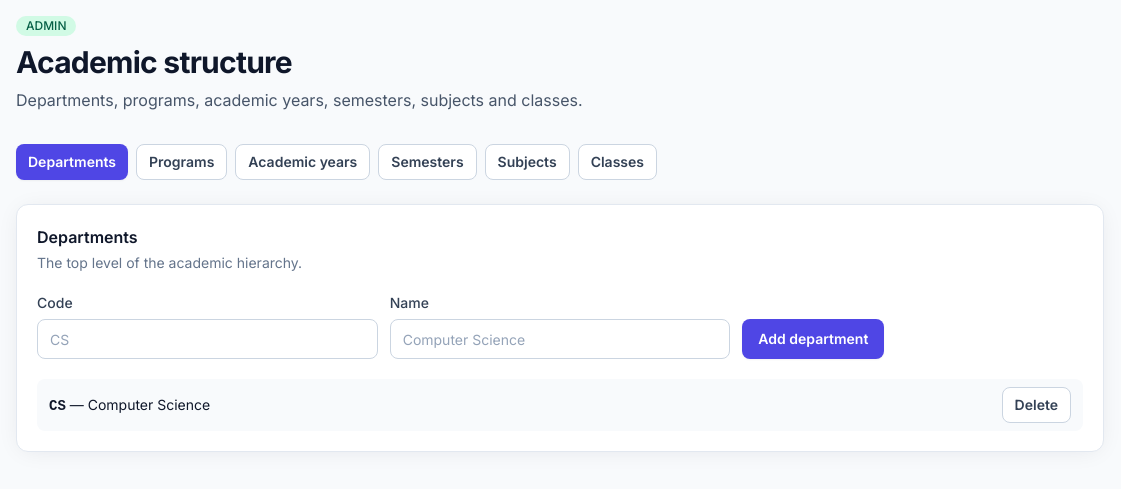
Test: AdminAcademic › switches between academic sections
Expected: the heading "Departments" is shown, [37, 227, 138, 247]
Click the button "Subjects". click: (527, 162)
box: [485, 144, 570, 180]
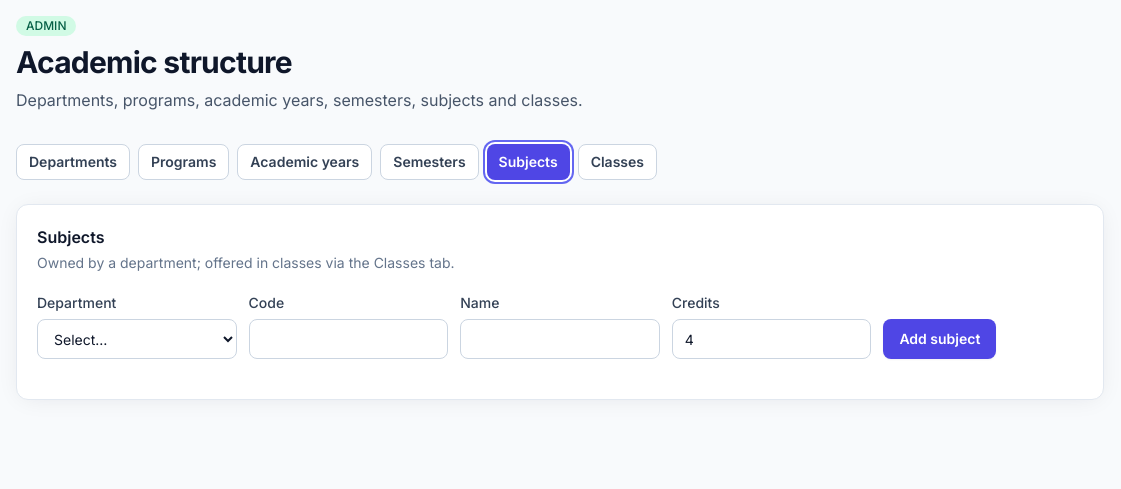
Expected: the heading "Subjects" is shown, [37, 227, 104, 247]
Click the button "Classes". click: (617, 162)
box: [578, 144, 657, 180]
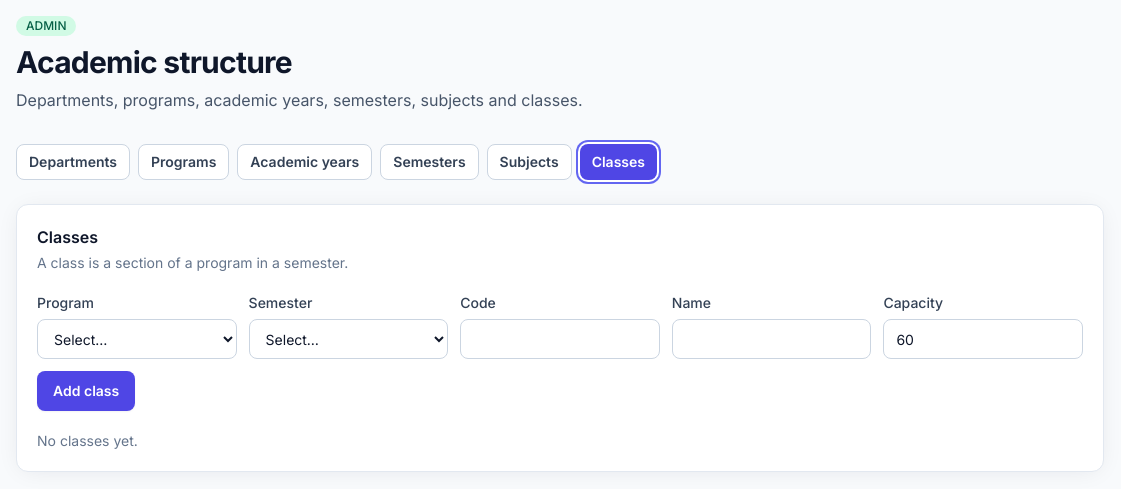
Expected: the heading "Classes" is shown, [37, 227, 98, 247]
